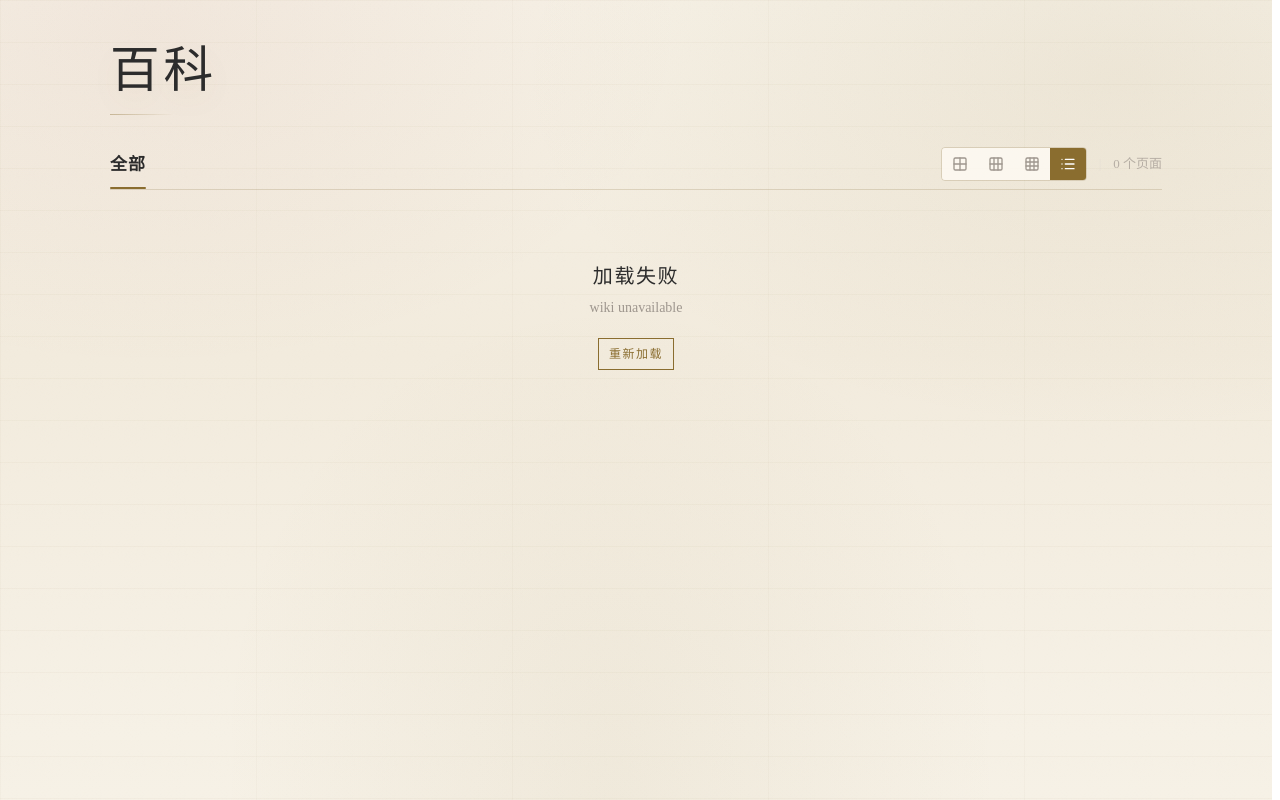
Test case: 百科列表统一加载状态 › 首次失败显示错误，重试后显示内容
Expected: the message "加载失败 wiki unavailable 重新加载" is shown, [590,265,682,370]
What coordinates should you click on to do the following:
click the button "重新加载"
I would click on:
 (636, 354)
Its box is [598,338,674,370].
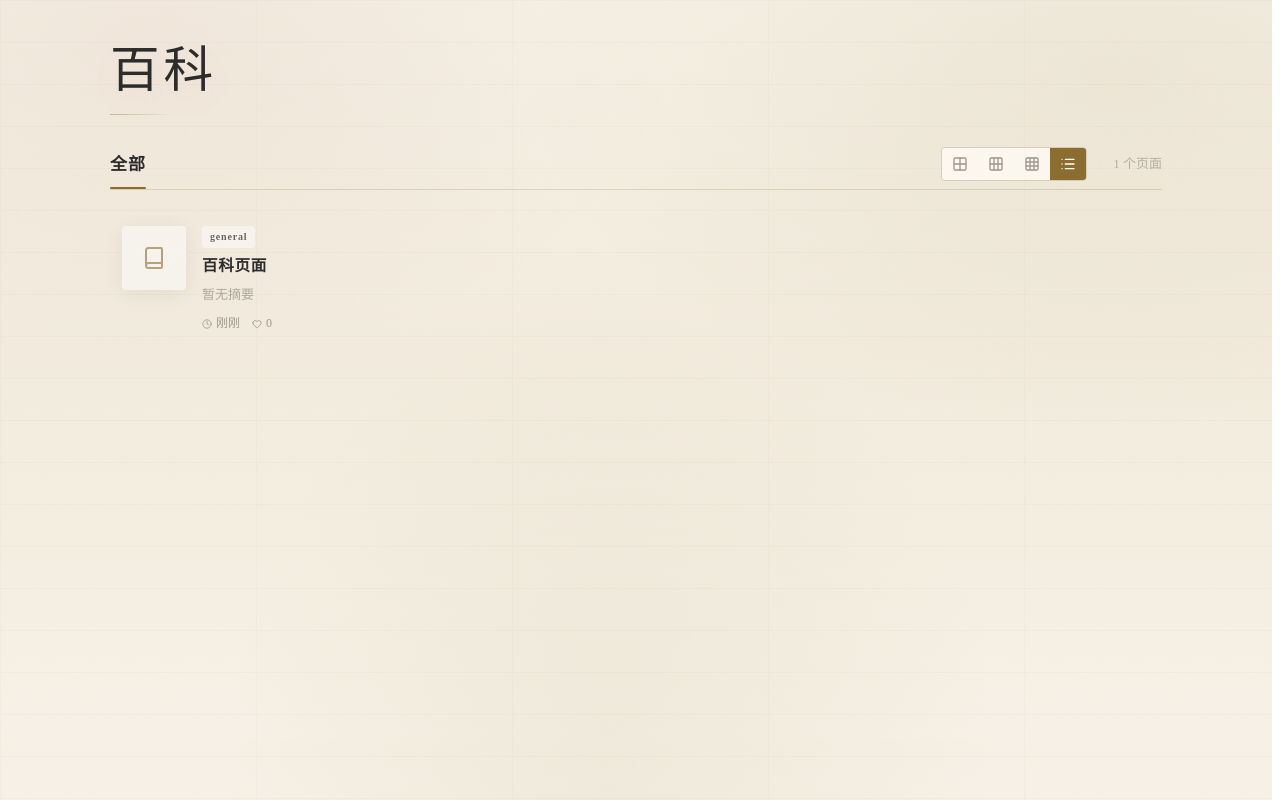
Expected: the heading "百科页面" is shown, [202,257,267,274]
